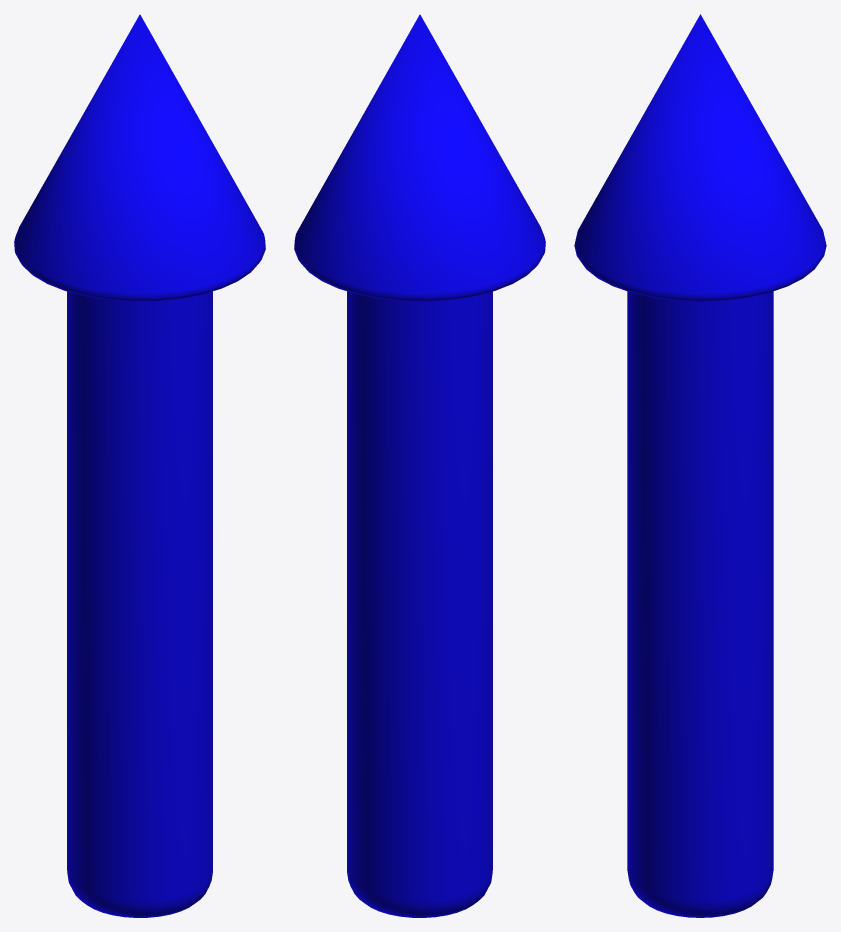
File: Arrow.fbx
3 renders of one model, left to right at view 1: azimuth 30°, elevation 25°; view 2: azimuth 150°, elevation 25°; view 3: azimuth 270°, elevation 25°, orthographic.
Parts seen in each view (by area): view 1: Cylinder, Cone; view 2: Cylinder, Cone; view 3: Cylinder, Cone.
Boxes of the visible parts, x1,y1,x2,y2 form: Cylinder: (67, 291, 212, 917); Cone: (14, 14, 265, 301); Cylinder: (347, 291, 492, 917); Cone: (294, 14, 545, 301); Cylinder: (627, 291, 773, 917); Cone: (574, 14, 826, 301).
Bounding box in the file's own units: 344 × 1325 × 344.
